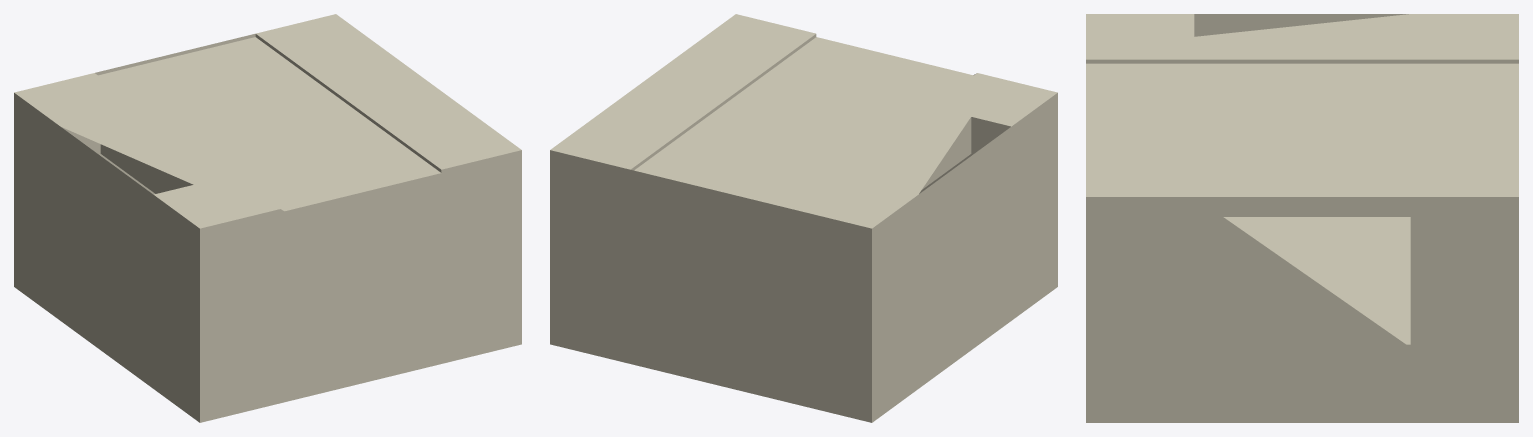
The model's file is roadtile_201.glb.
The picture shows the model from 3 angles, left to right: view 1: azimuth 30°, elevation 25°; view 2: azimuth 150°, elevation 25°; view 3: azimuth 270°, elevation 25°; orthographic projection. The views are drawn at different scales.
Visible parts, largest first — view 1: Mesh1 Group1 Model; view 2: Mesh1 Group1 Model; view 3: Mesh1 Group1 Model.
Boxes of the visible parts, x1=… form: Mesh1 Group1 Model: x1=14, y1=14, x2=521, y2=422; Mesh1 Group1 Model: x1=550, y1=14, x2=1057, y2=422; Mesh1 Group1 Model: x1=1086, y1=14, x2=1518, y2=422.
Bounding box in the file's own units: 3 × 1.73 × 3.
